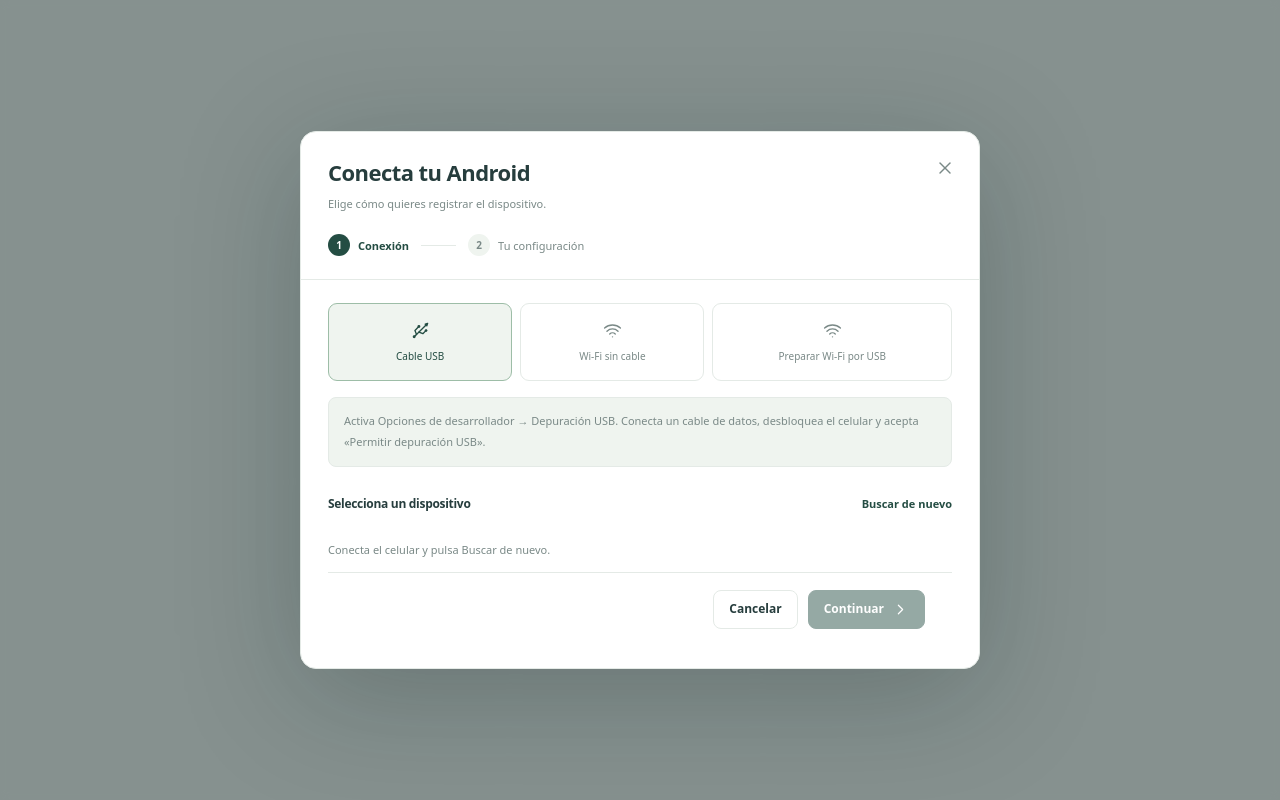
it: registration wizard › shows a recoverable manual connection error when discovery is unavailable
The image size is (1280, 800).
Click the button "Wi‑Fi sin cable" at (612, 342), box [520,303,704,381]
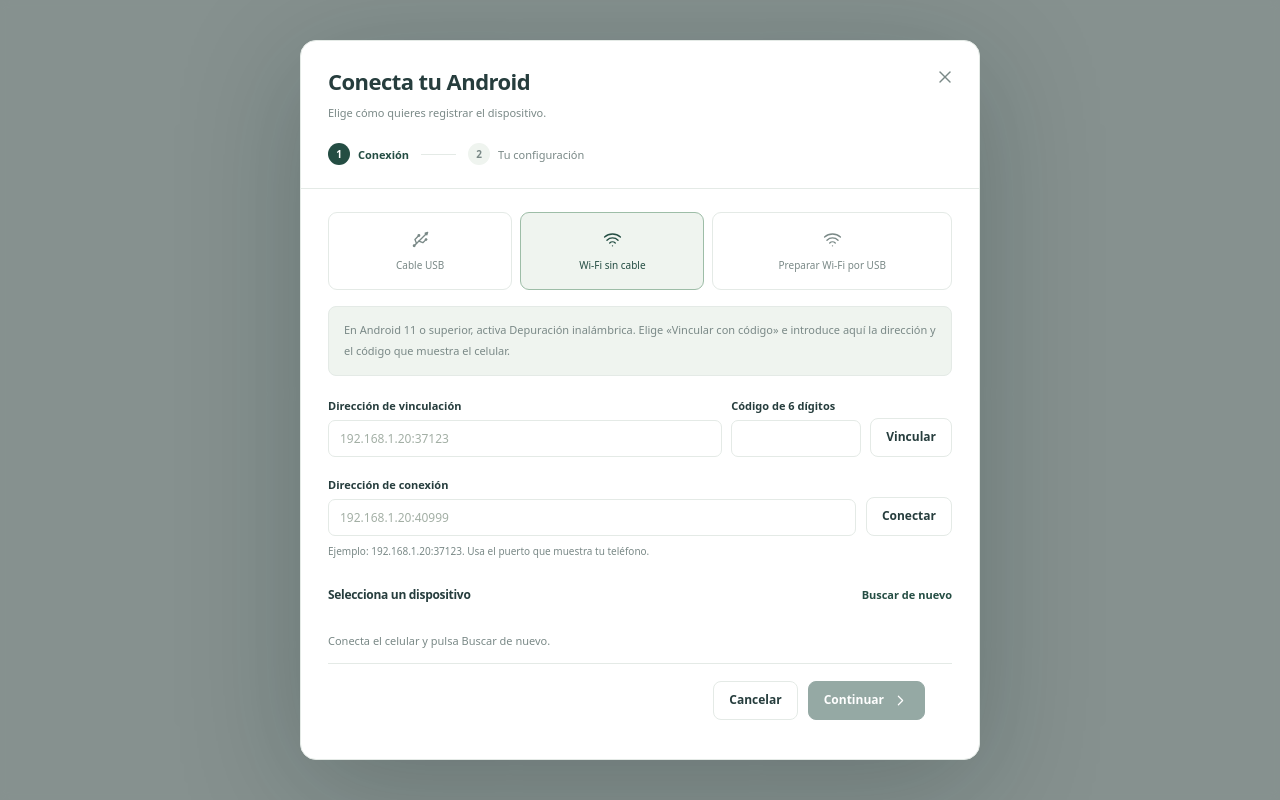
Type "192.168.1.20:5555" into the field labelled "Dirección de conexión" at (592, 517), box [328,499,856,536]
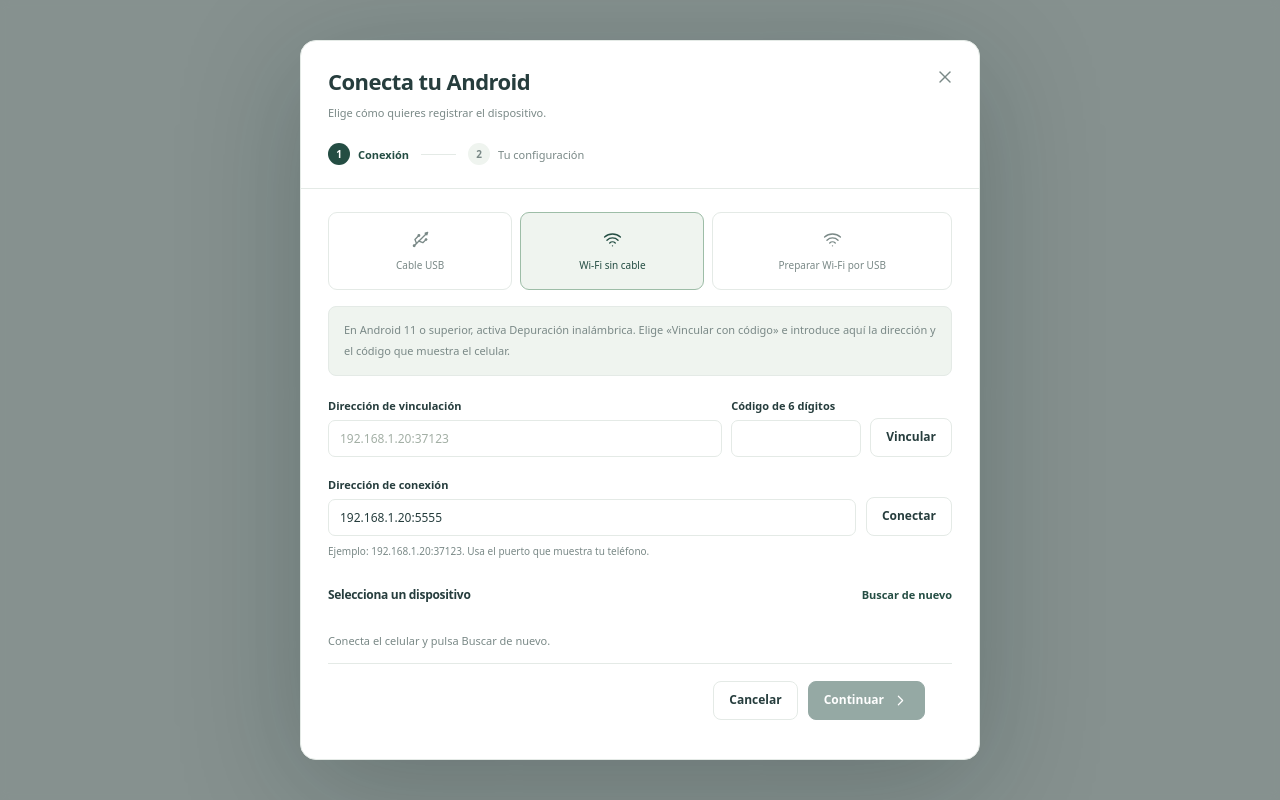
Submit the form named "Conectar", box [328,477,952,560]
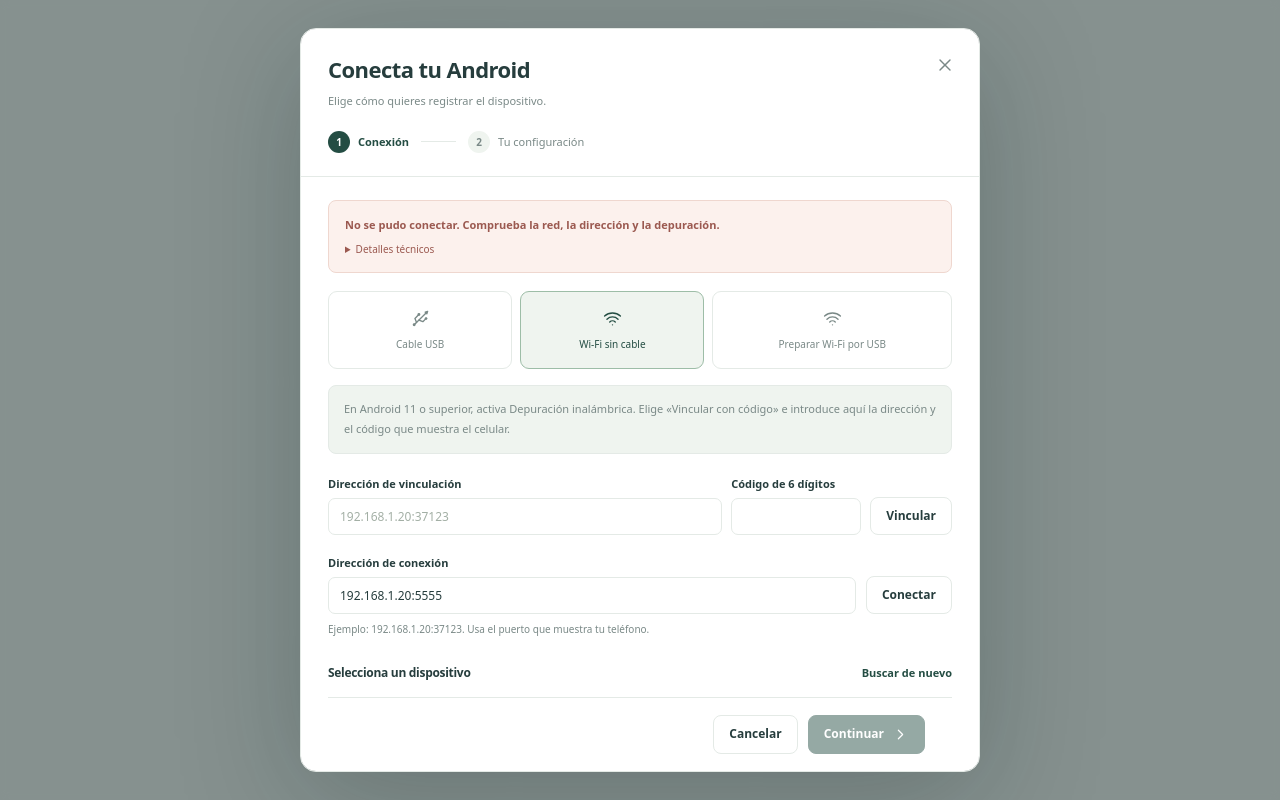
Expected: the button "Continuar" is disabled, [808,715,925,754]
Result: the message shows "Comprueba la red" at [345,217,720,232]
